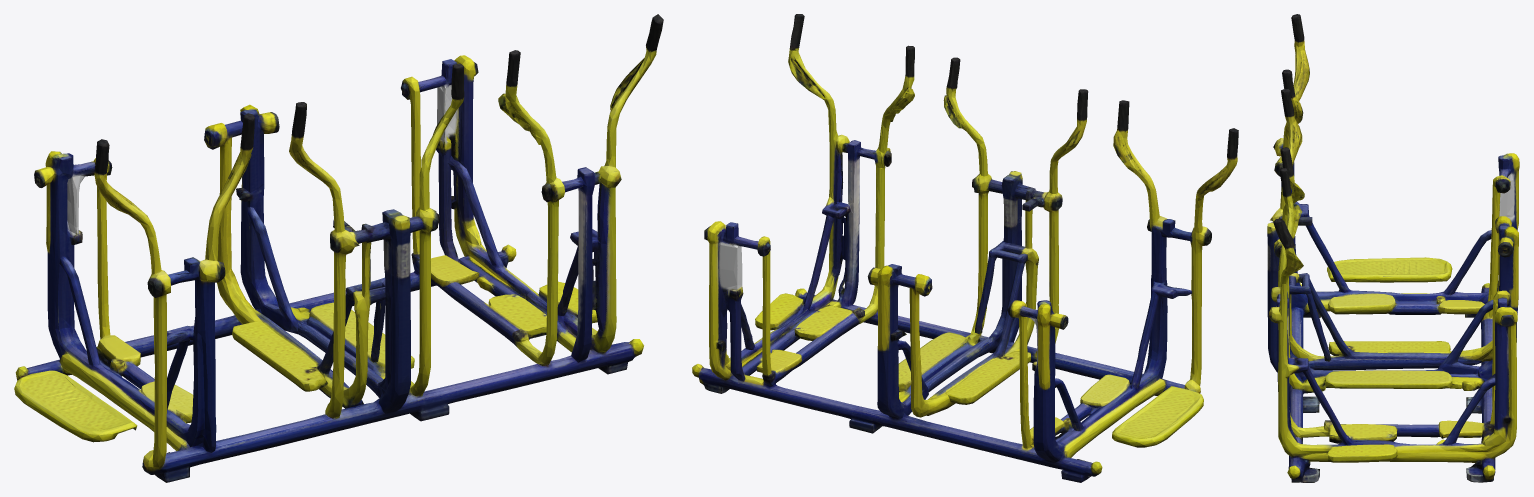
Rendered from caminhador.obj.
The picture shows the model from 3 angles, left to right: view 1: azimuth 30°, elevation 25°; view 2: azimuth 150°, elevation 25°; view 3: azimuth 270°, elevation 25°; orthographic projection. The views are drawn at different scales.
Visible parts, largest first — view 1: obj1; view 2: obj1; view 3: obj1.
Part boxes in pixels (left/top/right/bottom): obj1: left=14, top=14, right=663, bottom=482; obj1: left=692, top=14, right=1238, bottom=482; obj1: left=1267, top=14, right=1519, bottom=482.
Size of the model in its own units: 1 by 0.613 by 0.5132.
1 material, 1 textured.
